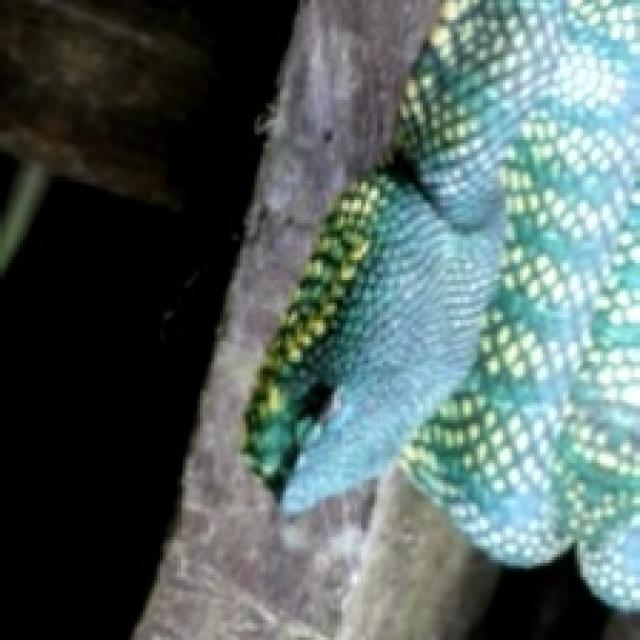north ph temple pitviper: (246, 0, 637, 606)
